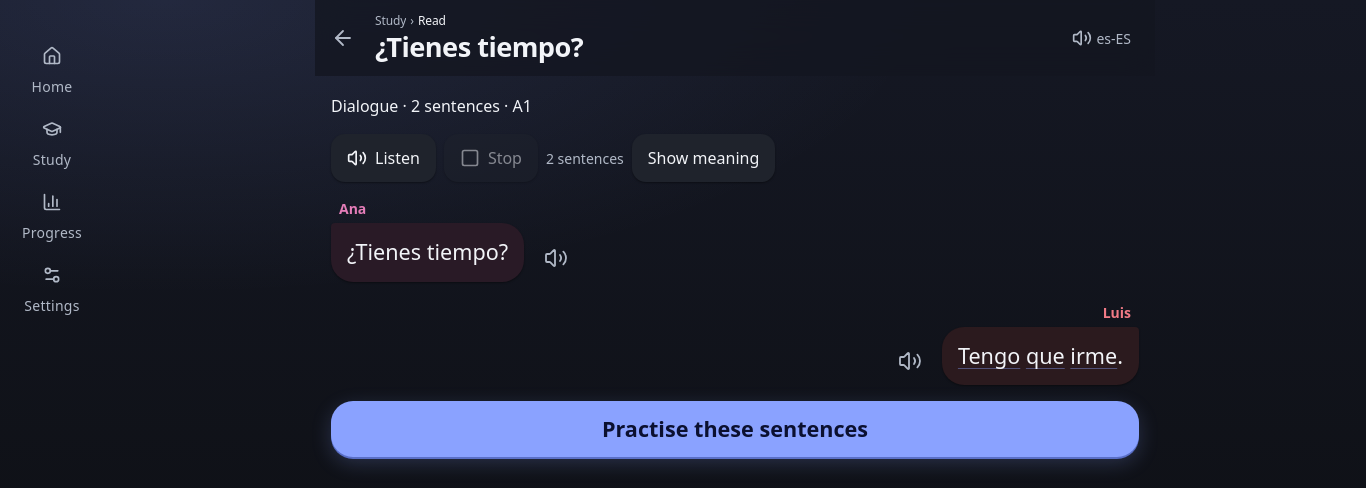
Test: reading a passage aloud › holds where it is and picks up again
This screenshot has width=1366, height=488.
Expected: the heading "¿Tienes tiempo?" is shown, [375,28,583,65]
Step 1. Click the button "Listen" → (383, 158), box [331,134,436,182]
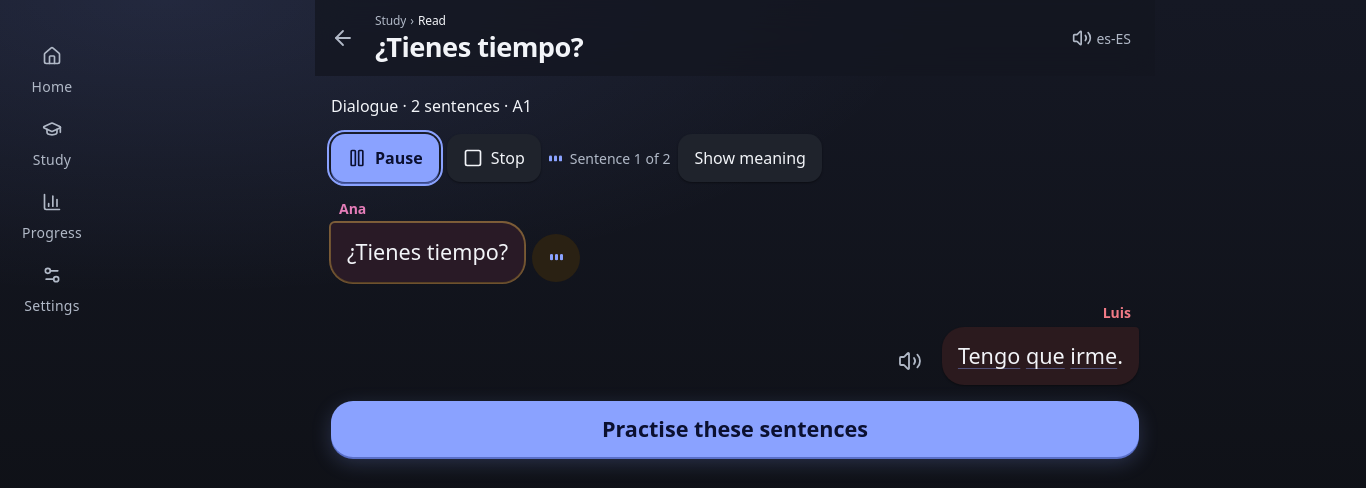
Step 2. Click the button "Pause" → (385, 158), box [331,134,439,182]
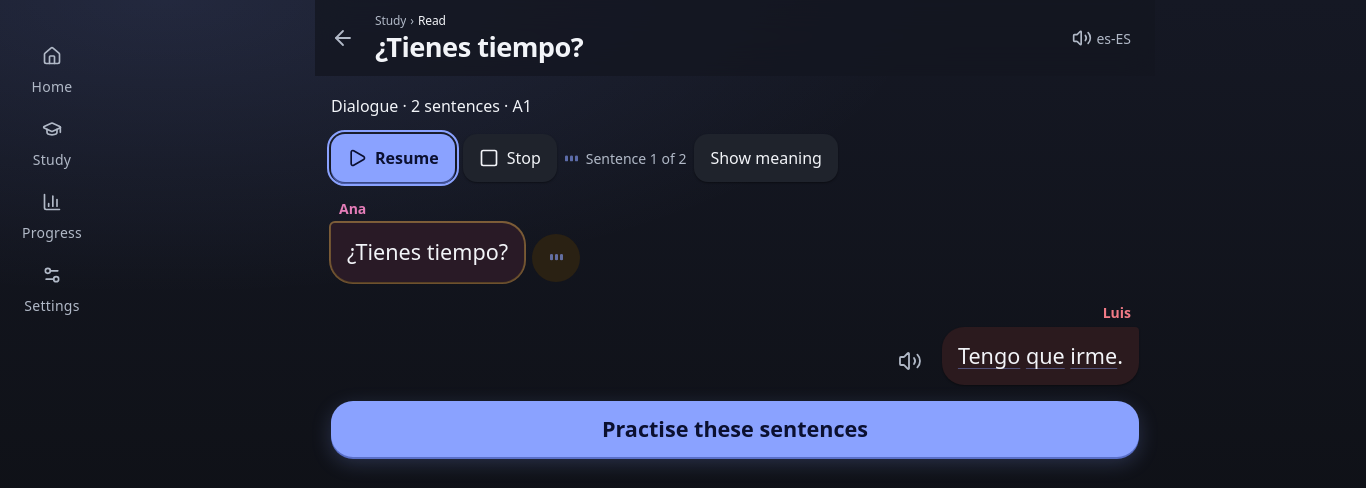
Now the text "Sentence 1 of 2" is shown, box [565,148,686,168]
Now the button "Resume" is shown
Step 3. Click the button "Resume" → (393, 158), box [331,134,455,182]
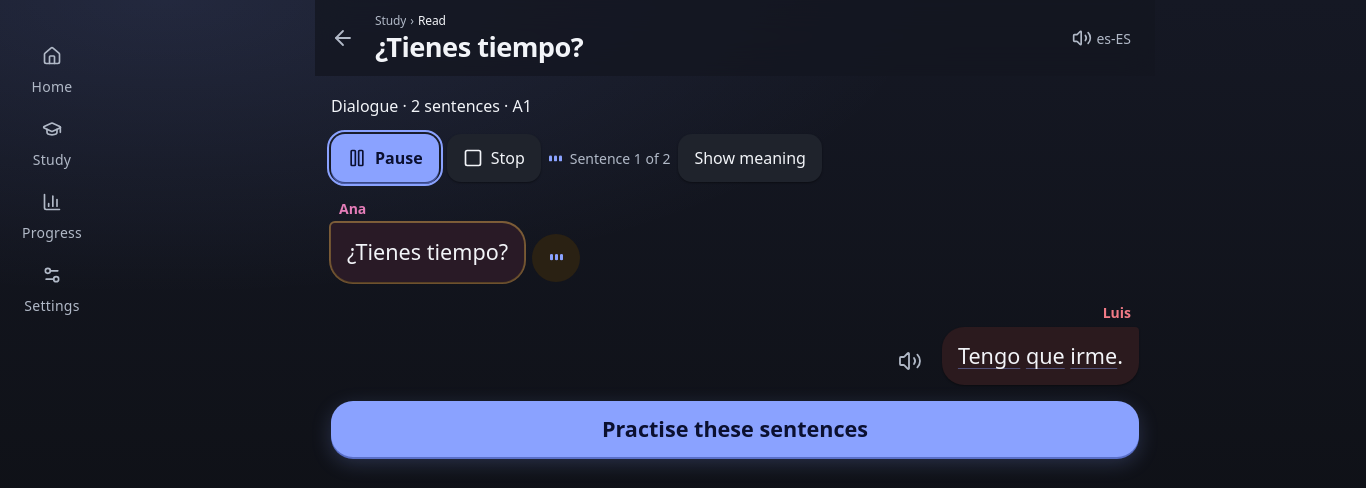
Now the button "Pause" is shown, box [331,134,439,182]
